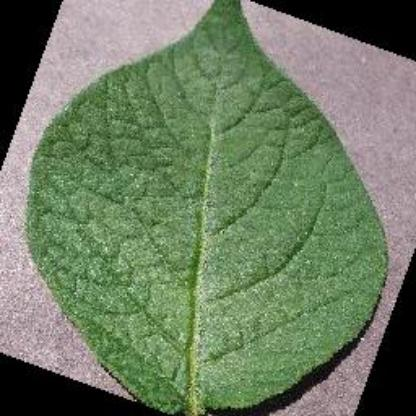Healthy-plant: (20, 0, 386, 416)
